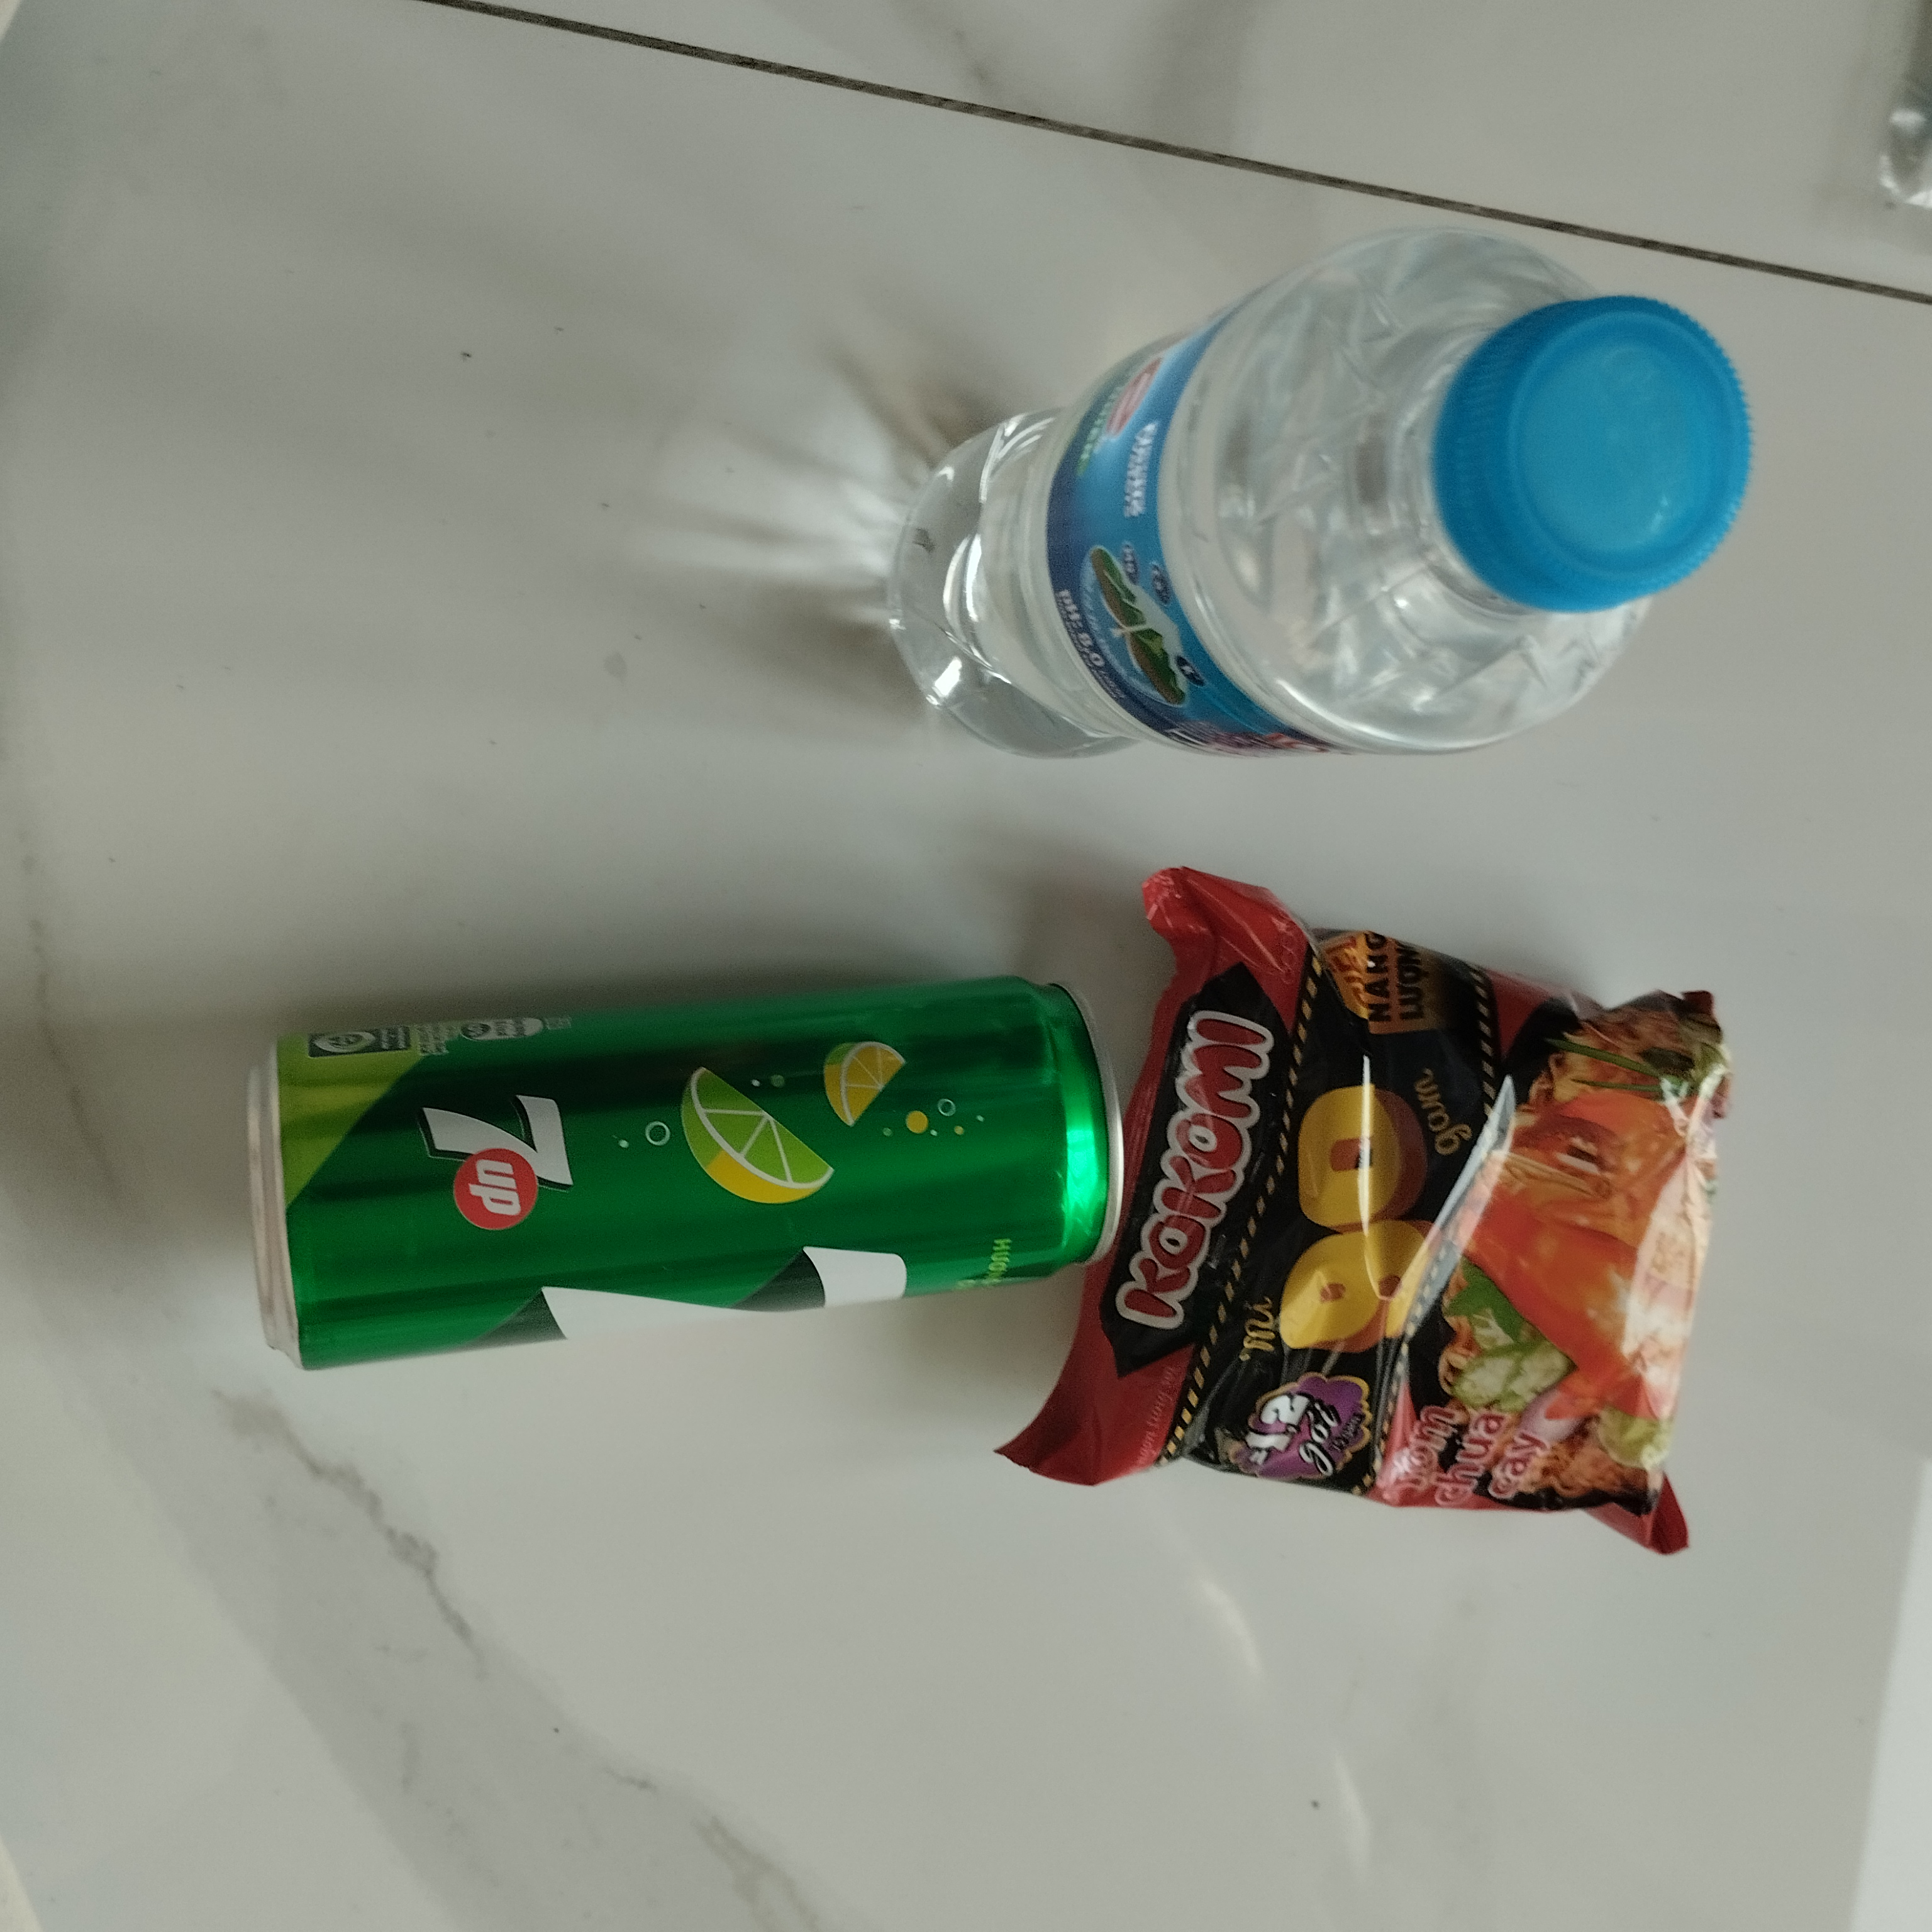7up: (228, 971, 1139, 1373)
Kokomi: (996, 853, 1771, 1580)
Lavie: (881, 214, 1750, 789)
